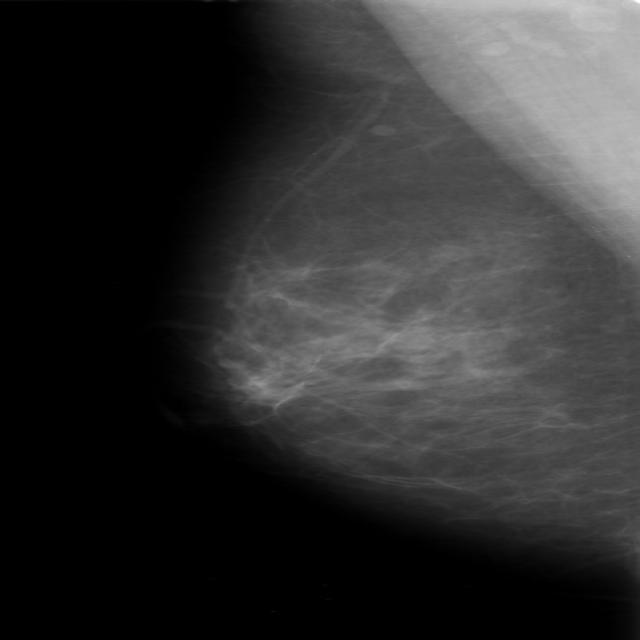tumour: (380, 324, 435, 354)
